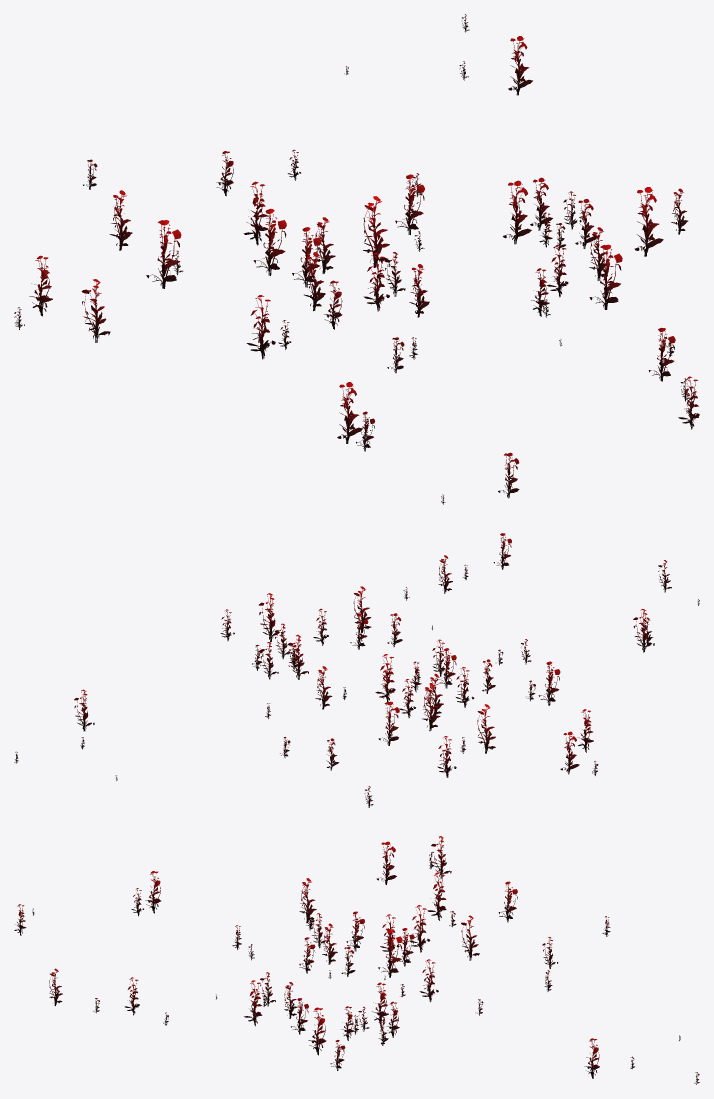
File: flower_00.fbx
3 views of the same model, one above another, from view 1: azimuth 30°, elevation 25°; view 2: azimuth 150°, elevation 25°; view 3: azimuth 270°, elevation 25° (orthographic). The views are drawn at different scales.
Parts seen in each view (by area): view 1: yellowFlower:Mesh; view 2: yellowFlower:Mesh; view 3: yellowFlower:Mesh.
Boxes of the visible parts, x1,y1,x2,y2 form: yellowFlower:Mesh: (14, 14, 699, 504); yellowFlower:Mesh: (14, 533, 699, 807); yellowFlower:Mesh: (14, 836, 699, 1084).
Bounding box in the file's own units: 34.26 × 3.87 × 45.32.
